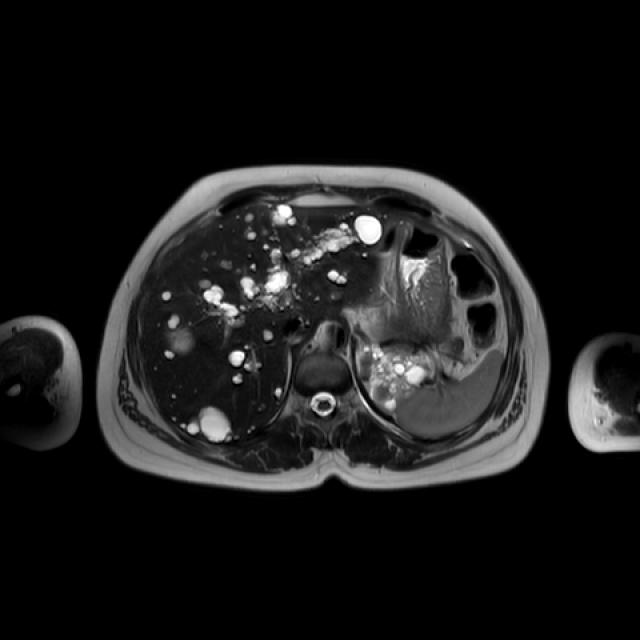sol: (359, 345, 433, 408)
